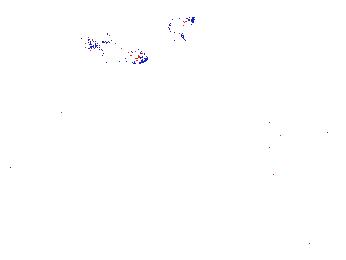glassfish: (250, 121, 341, 160)
redtail glassfish: (82, 36, 150, 65), (167, 15, 197, 45)
